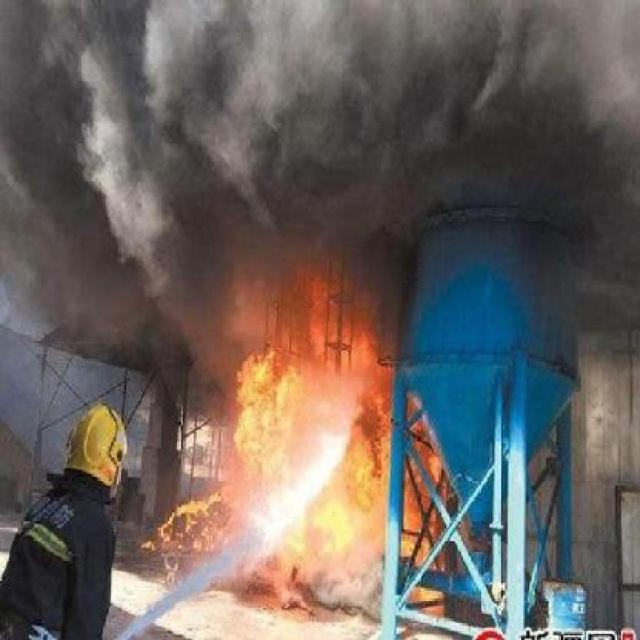Fire: (152, 331, 456, 640)
Smoke: (0, 0, 640, 318)
